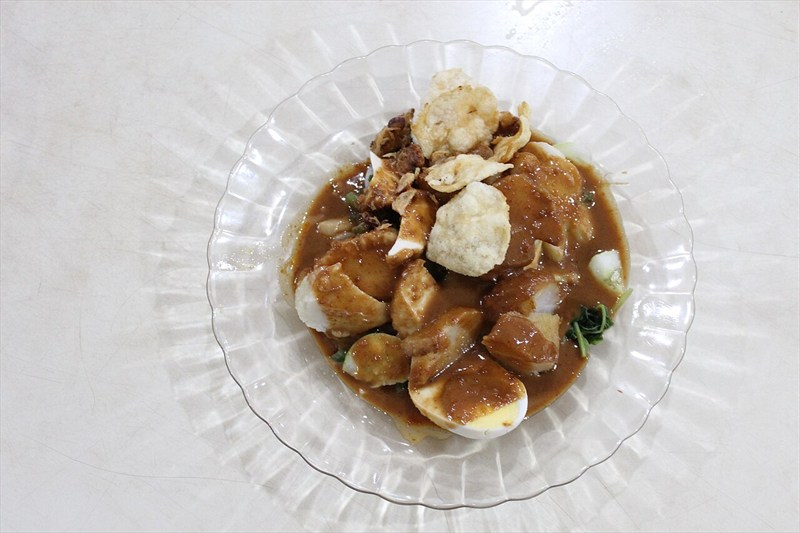Gado-Gado: (282, 115, 628, 427)
